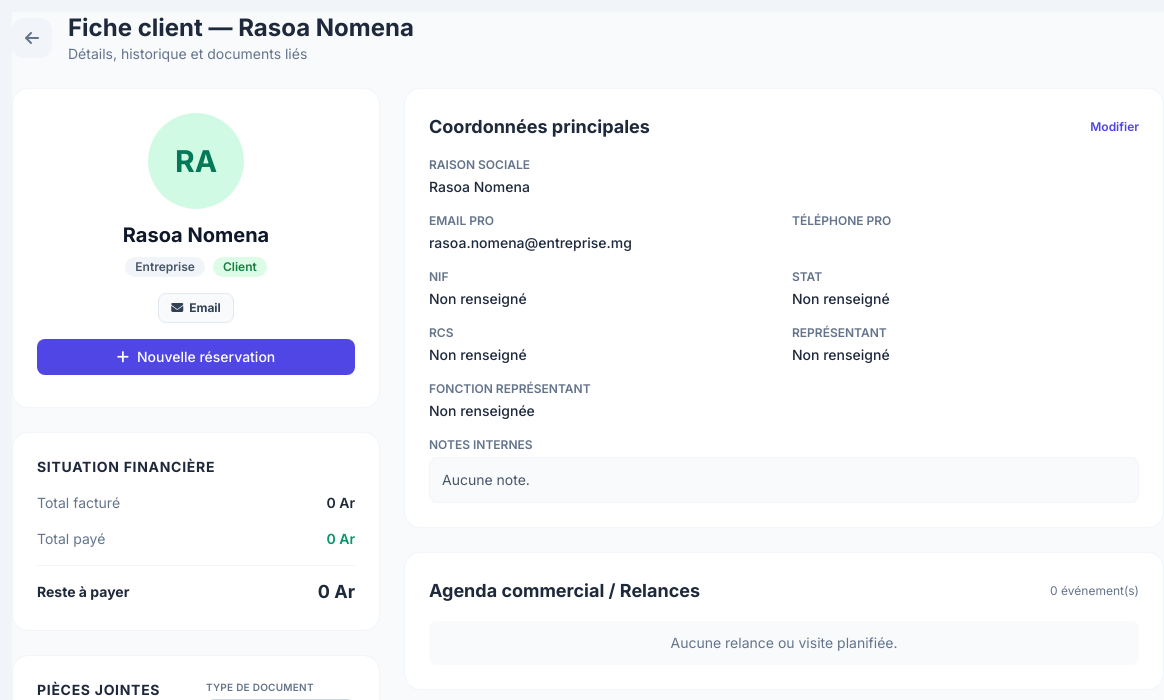
6F-R9 stabilization › CustomerDetailPage - enterprise client shows company fields
expect the text "Entreprise" is shown: met, box [125, 257, 205, 277]
Click the button "Modifier" at (1115, 127), box [1090, 119, 1139, 135]
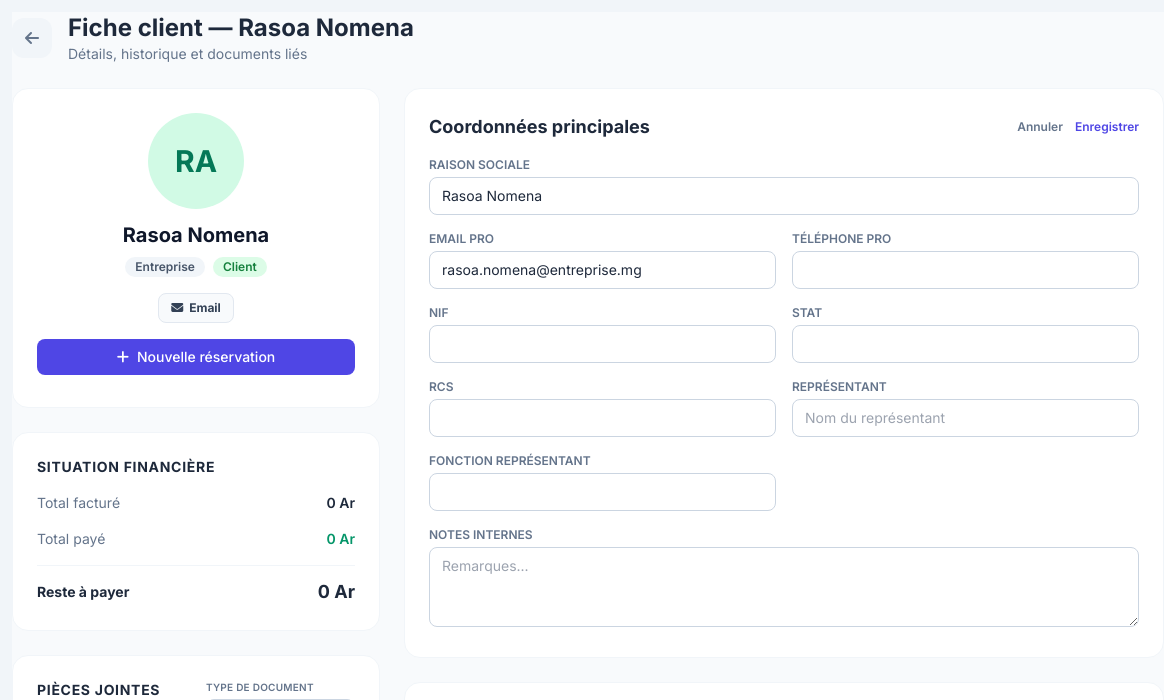
expect the field showing "rasoa.nomena@entreprise.mg" below "Email Pro" is shown: met, box [429, 251, 776, 289]
